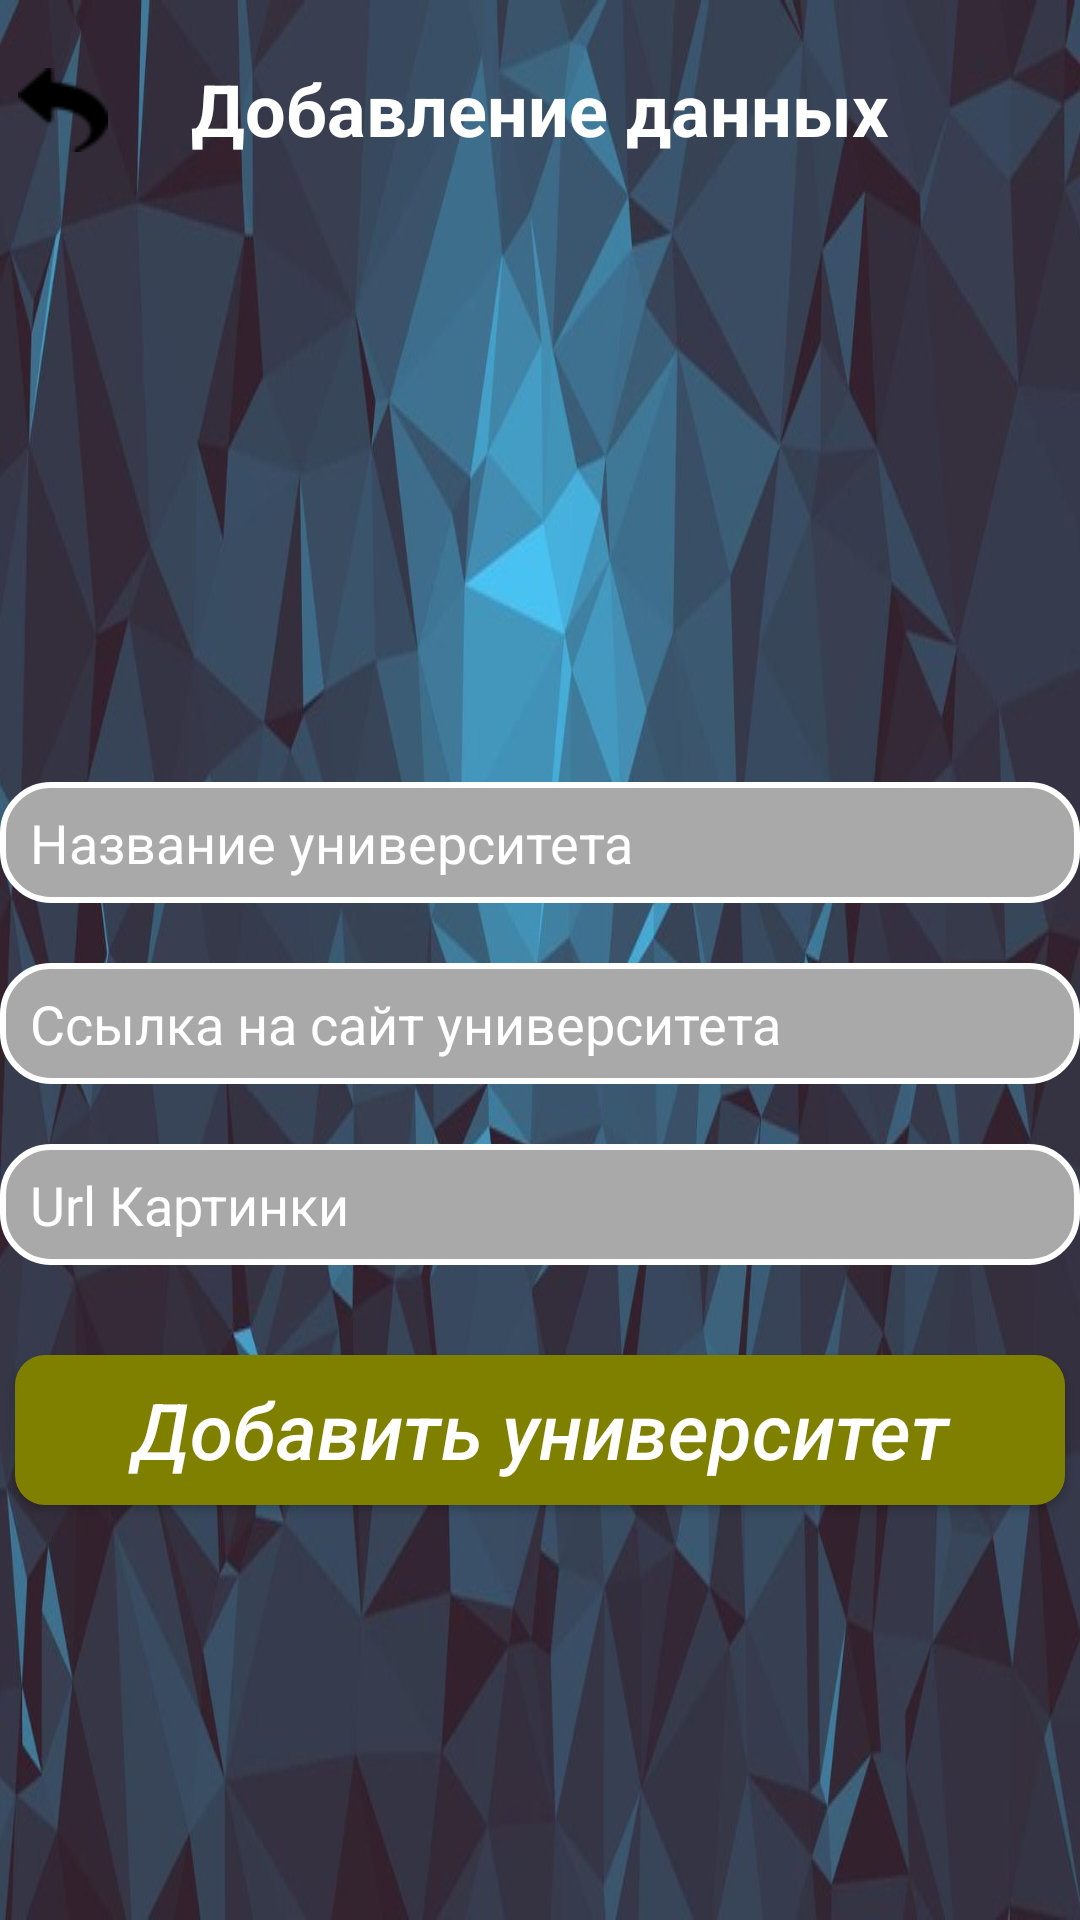

Point at icon controls on the screen. Image size 1080w x 1920h, points as [x,y].
back: [69,110]
